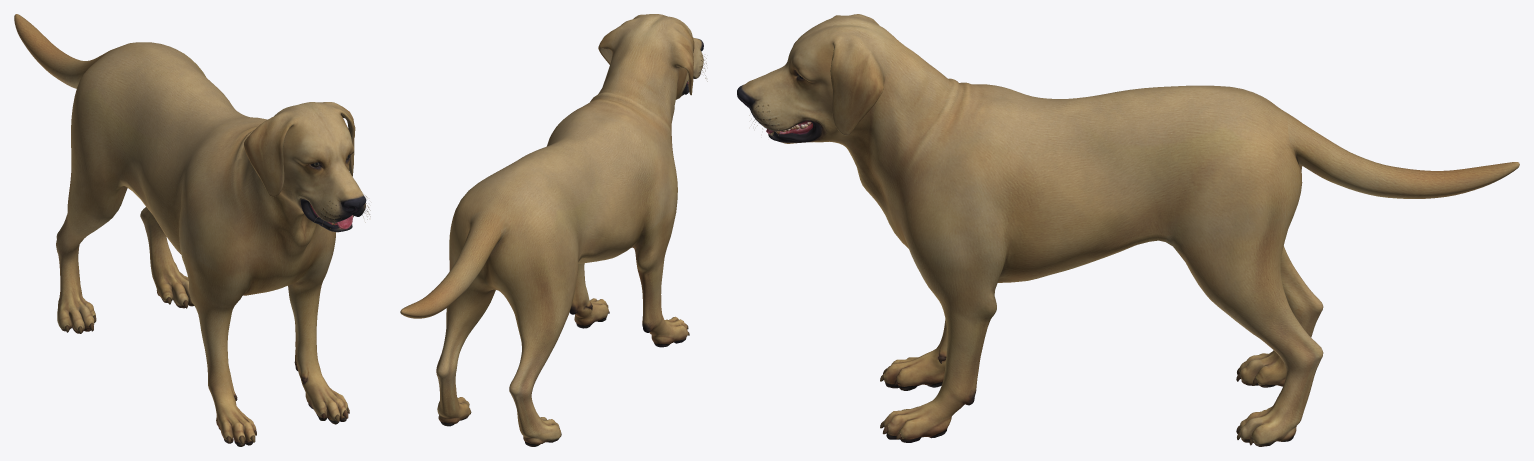
Rendered from dog.glb.
3 renders of one model, left to right at view 1: azimuth 30°, elevation 25°; view 2: azimuth 150°, elevation 25°; view 3: azimuth 270°, elevation 25°, orthographic. The views are drawn at different scales.
Parts seen in each view (by area): view 1: node_id126_1; view 2: node_id126_1; view 3: node_id126_1.
Part boxes in pixels (x1,y1,x2,y2): node_id126_1: (14, 14, 370, 446); node_id126_1: (400, 14, 707, 446); node_id126_1: (737, 14, 1519, 446).
Bounding box in the file's own units: 0.2187 × 0.512 × 0.933.
1 material, 1 textured.
